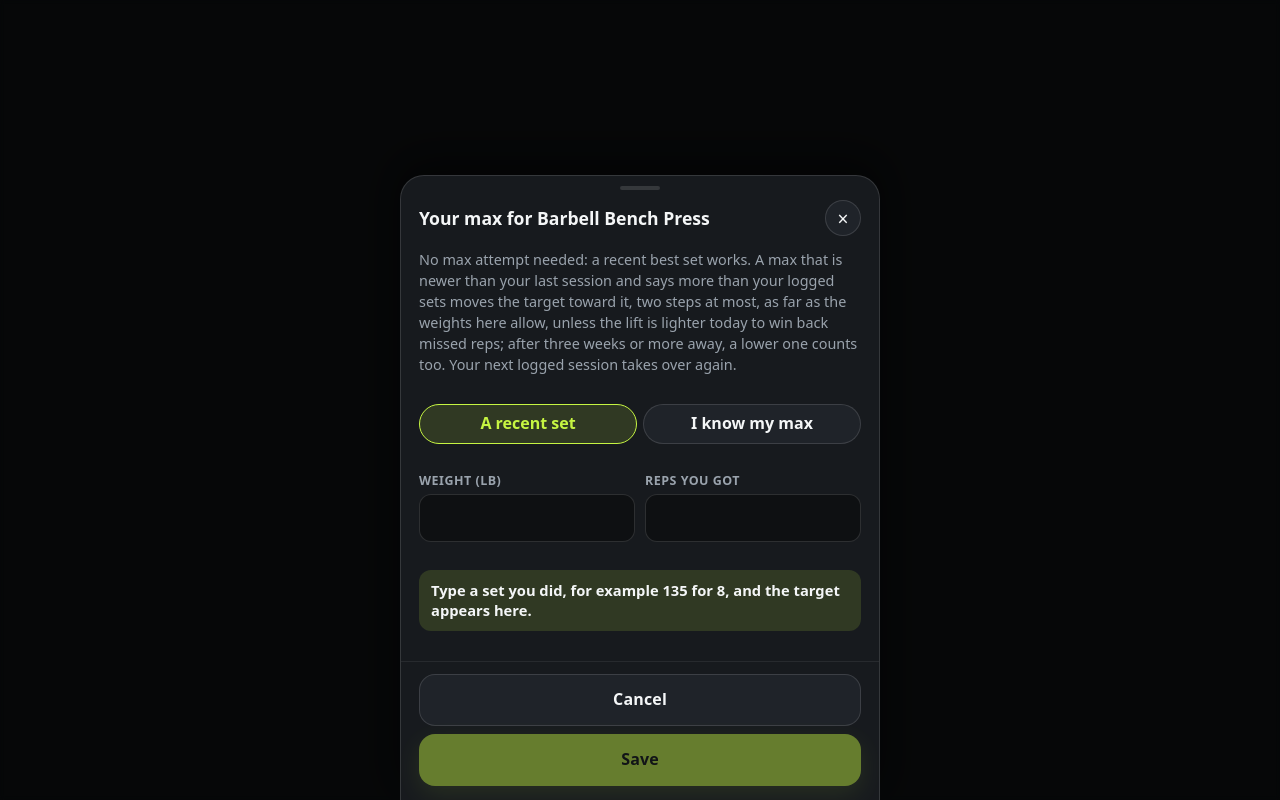
MaxSheet after the review of item 40 › refuses a recent set of more than thirty reps, never reading it as thirty
Type "135" into the number field with test id "max-weight".
click(527, 518); type("135")  # box [419,494,635,542]
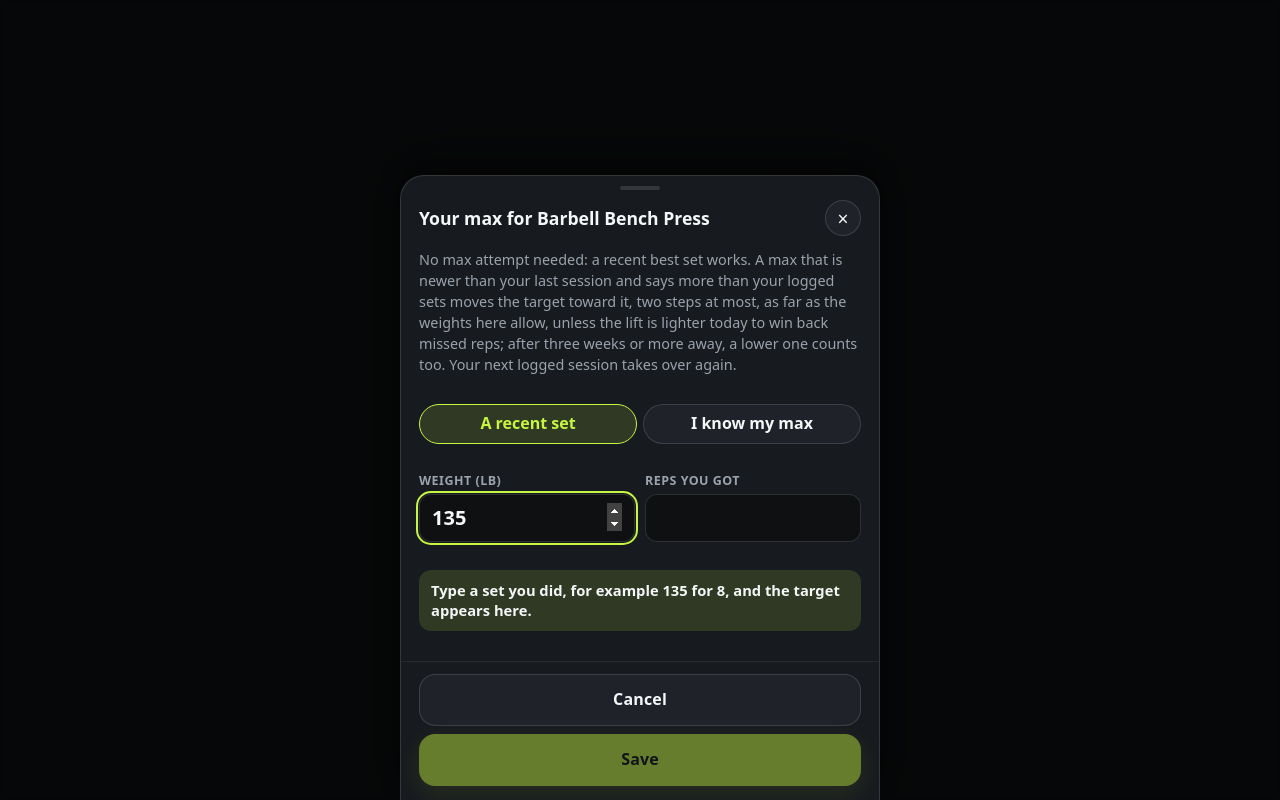
Type "50" into the number field with test id "max-reps".
click(753, 518); type("50")  # box [645,494,861,542]
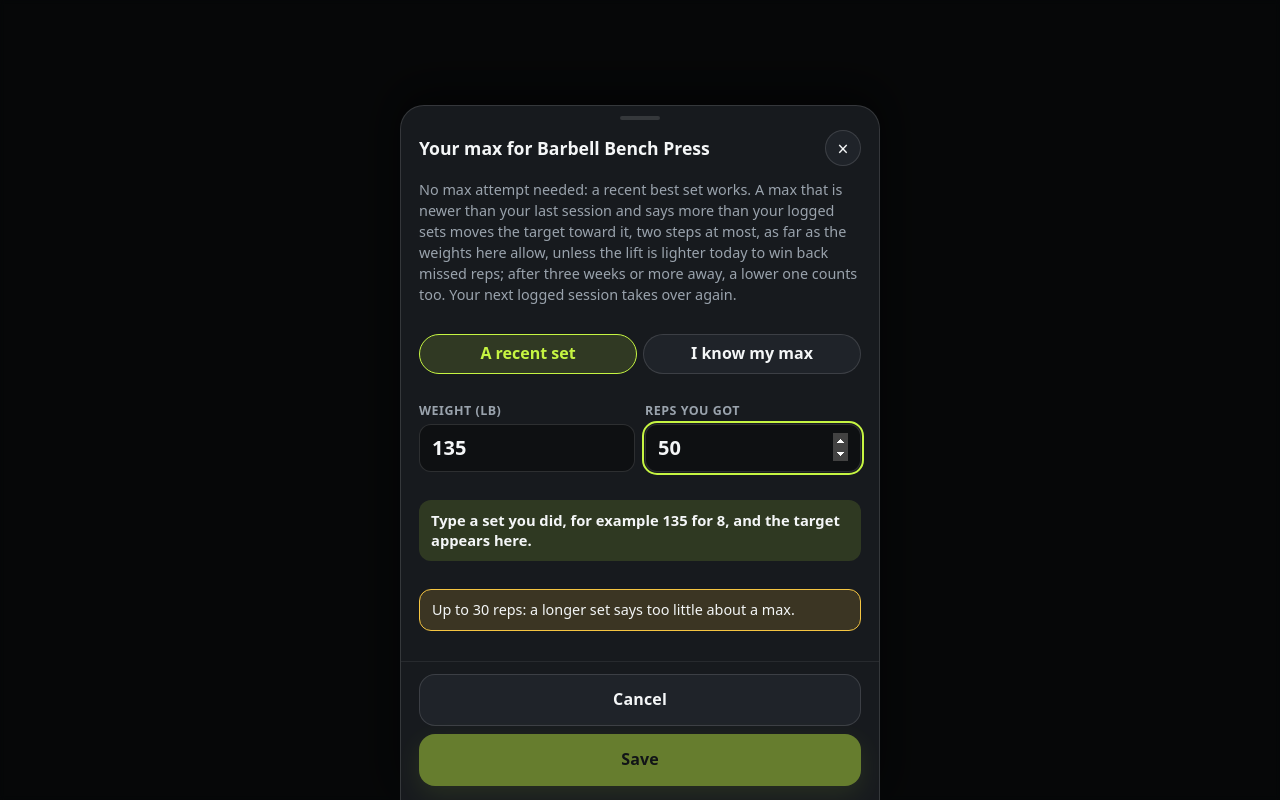
Expected: the button with test id "max-save" is disabled, [419,734,861,786]
Result: the message with test id "max-reps-limit" shows "Up to 30 reps" at [419,589,861,631]
Clear the number field with test id "max-reps" at (753, 448), box [645,424,861,472]
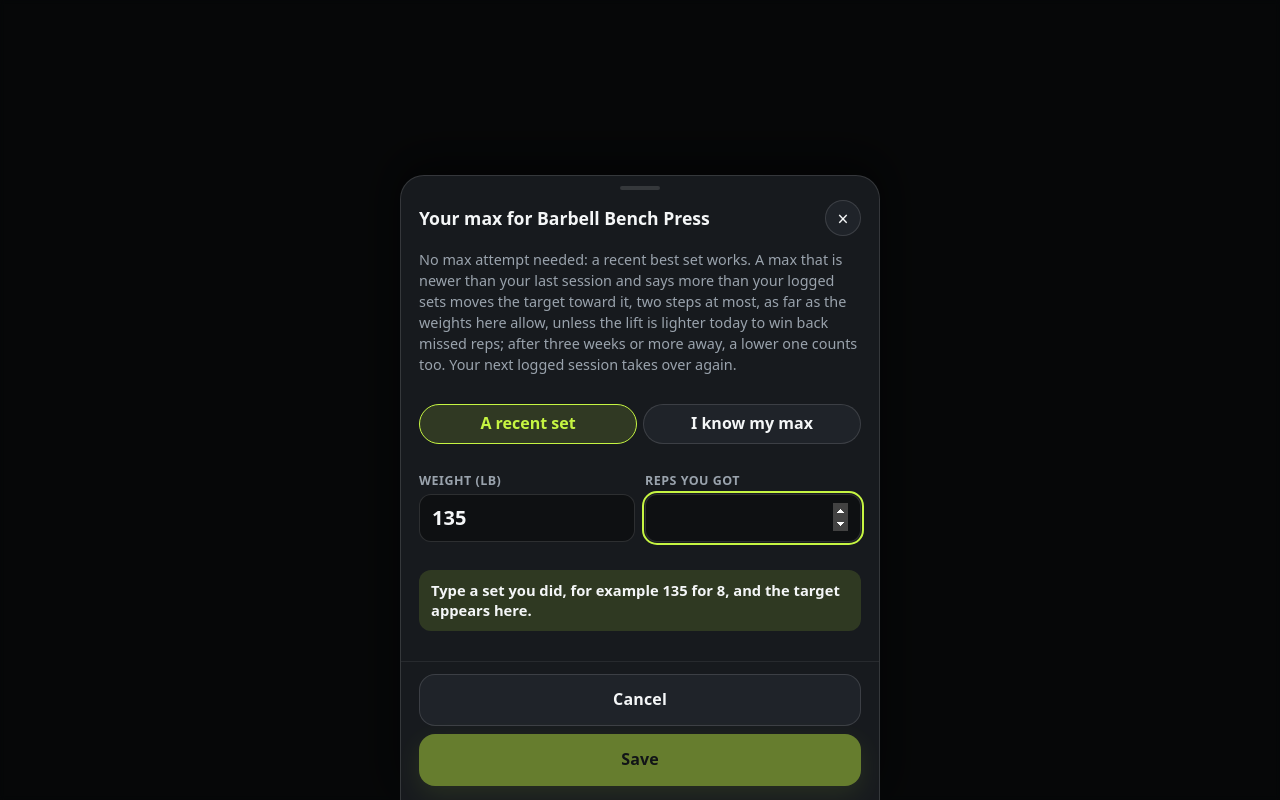
Type "30" into the number field with test id "max-reps".
click(753, 518); type("30")  # box [645,494,861,542]
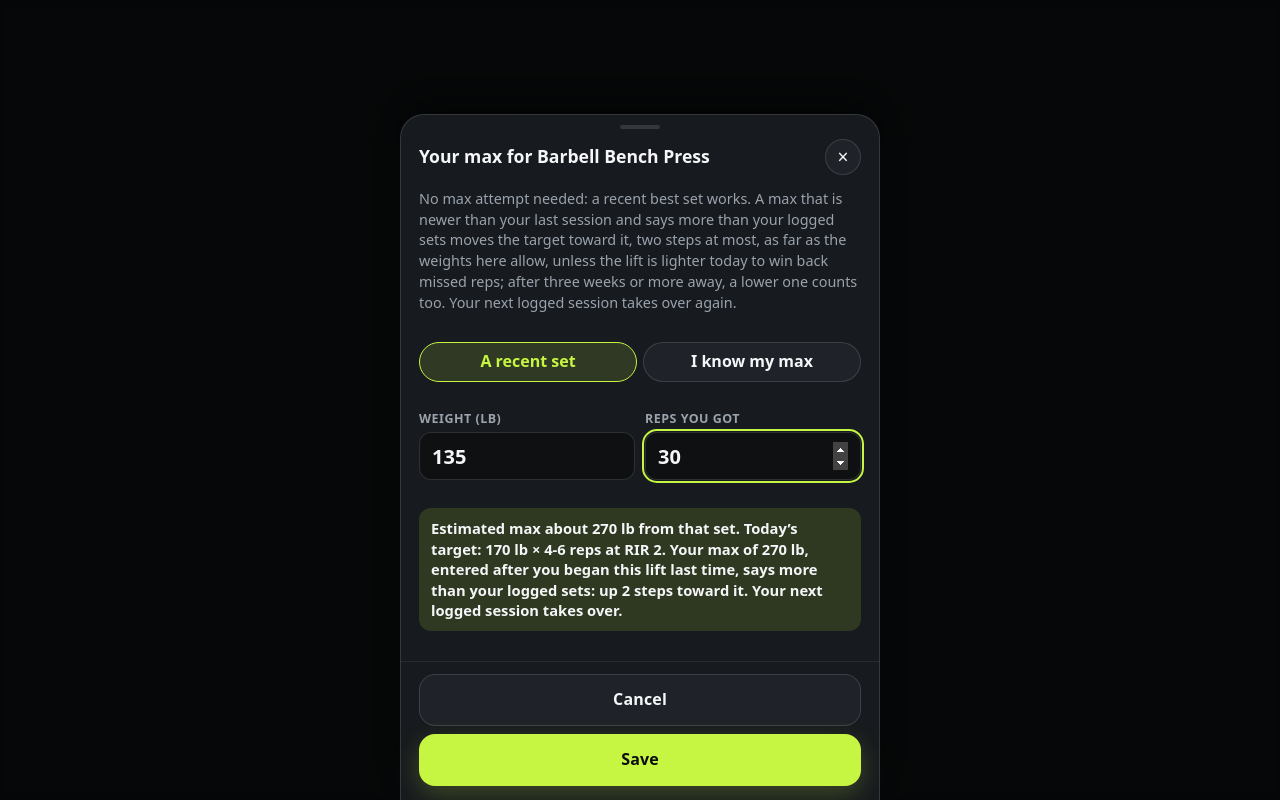
Result: the button with test id "max-save" is enabled at [419,734,861,786]
